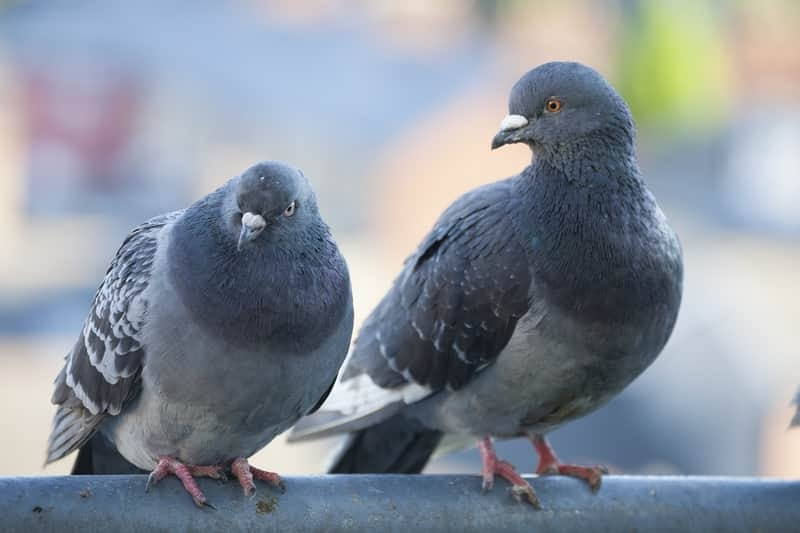bird: (291, 54, 692, 517), (37, 155, 357, 515)
